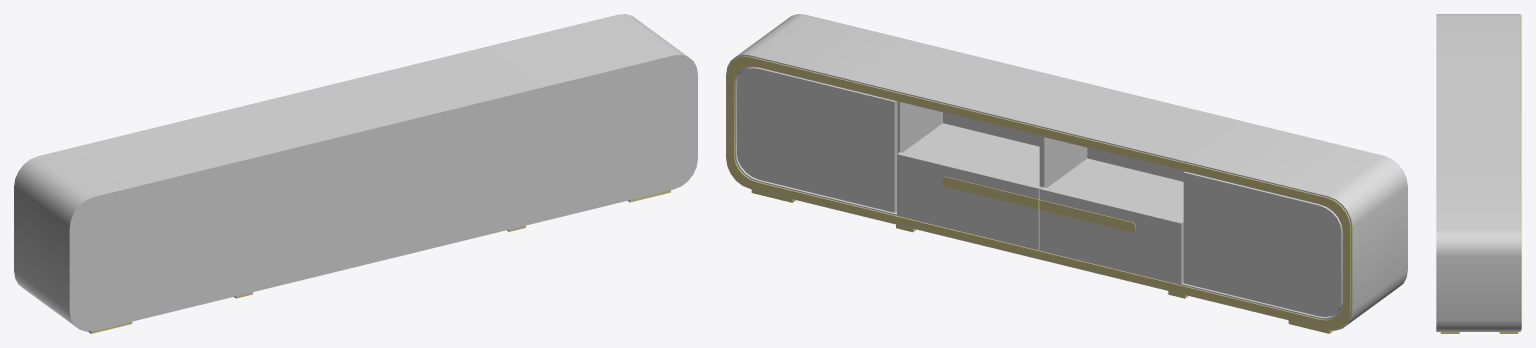
The model's file is TvStand18.glb.
3 views of the same model, side by side, from view 1: azimuth 30°, elevation 25°; view 2: azimuth 150°, elevation 25°; view 3: azimuth 270°, elevation 25° (orthographic). The views are drawn at different scales.
Visible parts, largest first — view 1: TvStand18; view 2: TvStand18; view 3: TvStand18.
Part boxes in pixels (x1=…): TvStand18: x1=14, y1=14, x2=697, y2=333; TvStand18: x1=726, y1=14, x2=1407, y2=333; TvStand18: x1=1436, y1=14, x2=1521, y2=333.
Size of the model in its own units: 2.6 by 0.55 by 0.4046.
